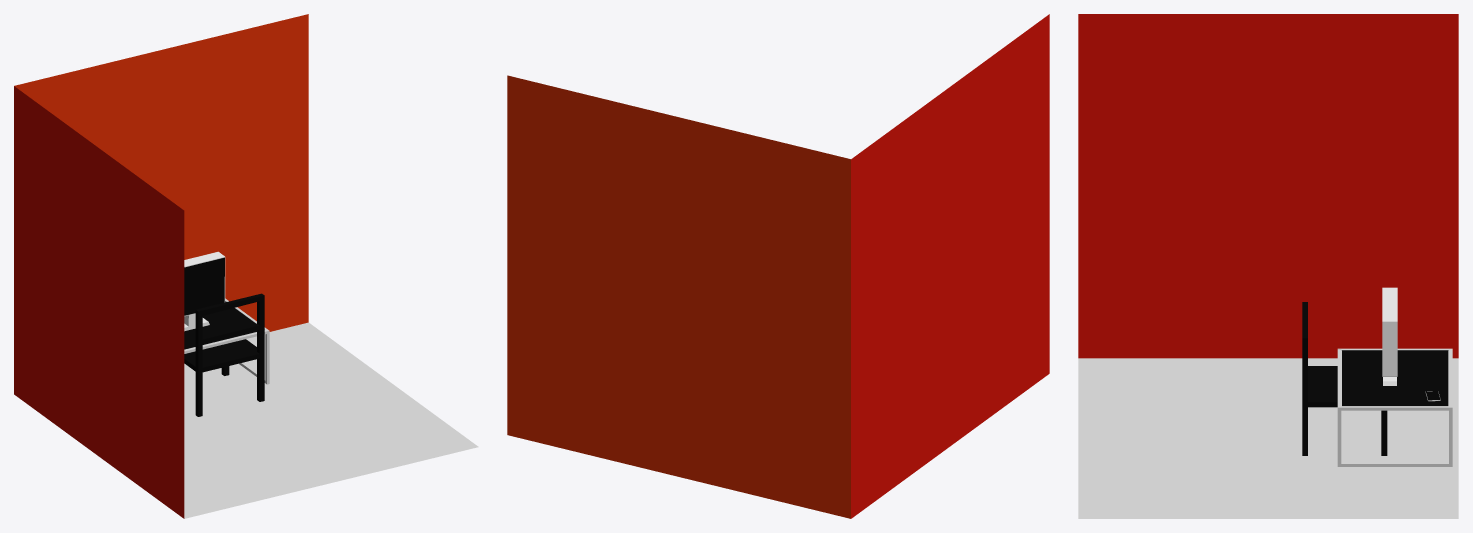
File: desk.glb
3 views of the same model, side by side, from view 1: azimuth 30°, elevation 25°; view 2: azimuth 150°, elevation 25°; view 3: azimuth 270°, elevation 25° (orthographic). The views are drawn at different scales.
Visible parts, largest first — view 1: Cube, Cube.003, Cube.005, Cube.001; view 2: Cube; view 3: Cube, Cube.001, Cube.003, Cube.005.
Boxes of the visible parts, <box> form: Cube: <box>14,14,478,518</box>; Cube.003: <box>184,293,264,416</box>; Cube.005: <box>184,251,225,331</box>; Cube.001: <box>184,298,269,384</box>; Cube: <box>507,14,1049,518</box>; Cube: <box>1078,14,1458,518</box>; Cube.001: <box>1337,348,1452,466</box>; Cube.003: <box>1302,302,1387,455</box>; Cube.005: <box>1382,287,1397,385</box>.
Bounding box in the file's own units: 5.45 × 5.45 × 5.45.
